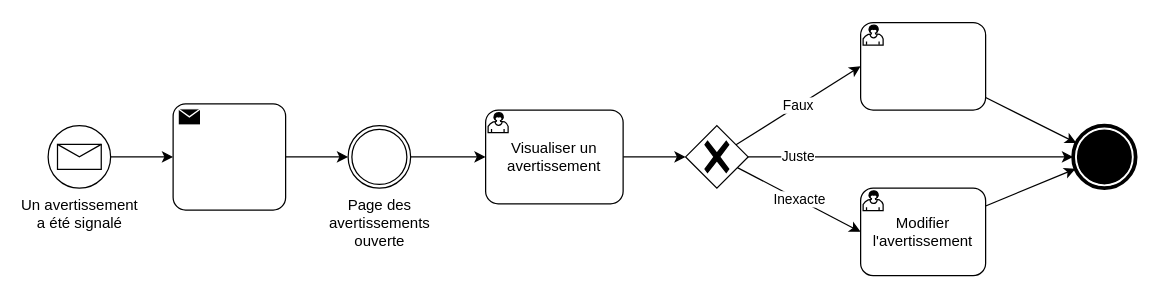
Image size: 1158x298. Some labels were removed from this diagram. Each missing label, with the centre of its shape:
"Envoyer mail à un Modérateur" goes at point 229,156.
"Supprimer l'avertissement" goes at point 922,65.
